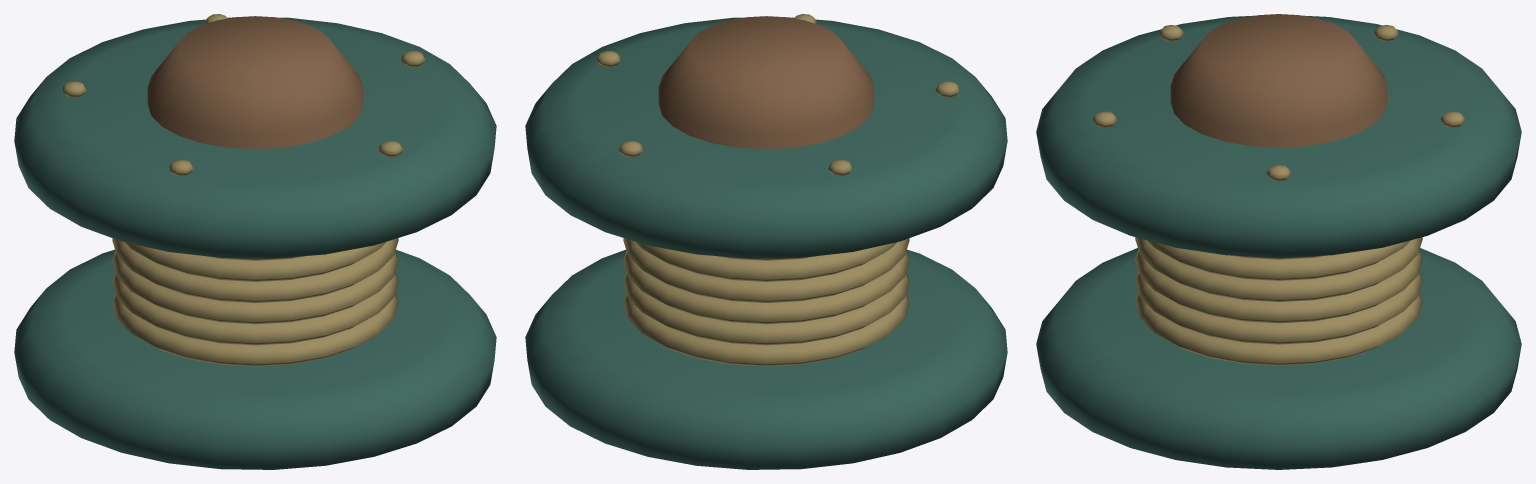
The model's file is clockwork_reel_atelier.glb.
3 renders of one model, left to right at view 1: azimuth 30°, elevation 25°; view 2: azimuth 150°, elevation 25°; view 3: azimuth 270°, elevation 25°, orthographic.
Parts seen in each view (by area): view 1: clockwork_reel_atelier__TaggedPainted_clockwork_reel_atelier; view 2: clockwork_reel_atelier__TaggedPainted_clockwork_reel_atelier; view 3: clockwork_reel_atelier__TaggedPainted_clockwork_reel_atelier.
Part boxes in pixels (bbox=[...]): clockwork_reel_atelier__TaggedPainted_clockwork_reel_atelier: bbox=[14, 14, 496, 469]; clockwork_reel_atelier__TaggedPainted_clockwork_reel_atelier: bbox=[525, 14, 1007, 469]; clockwork_reel_atelier__TaggedPainted_clockwork_reel_atelier: bbox=[1036, 14, 1521, 469].
Size of the model in its own units: 0.56 by 0.425 by 0.56.
